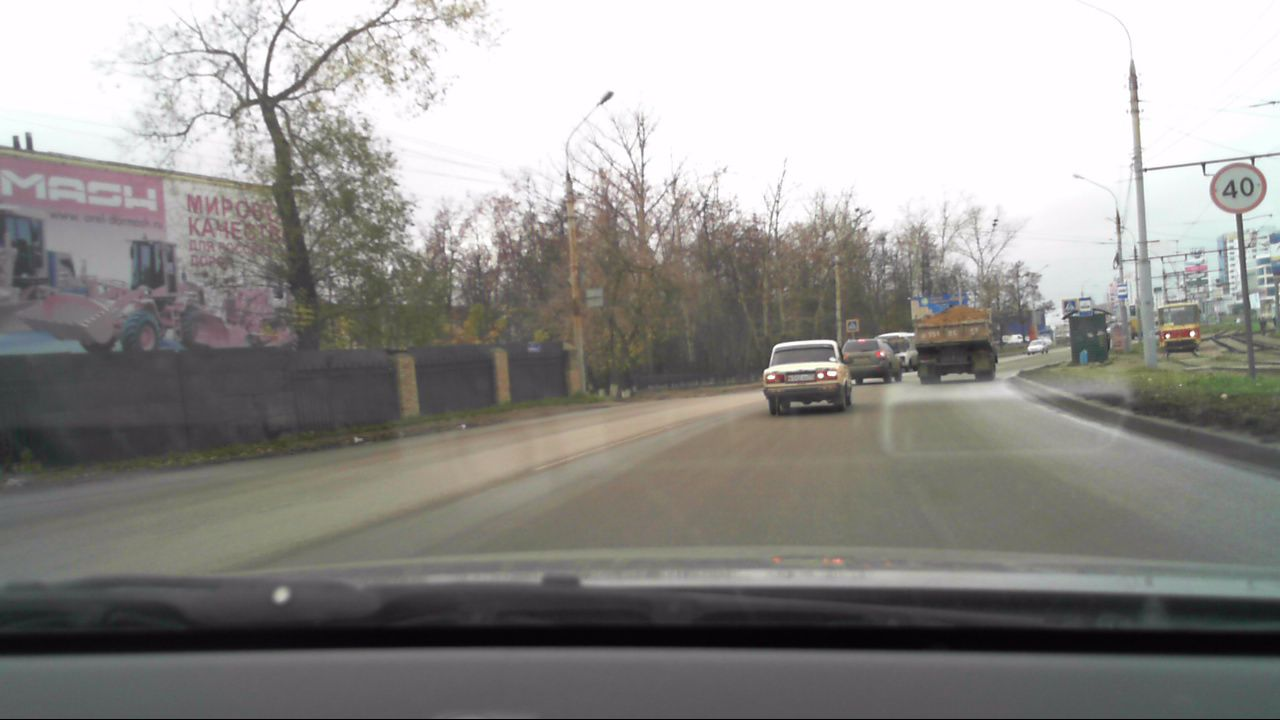speed_warning_40: (1207, 161, 1267, 214)
